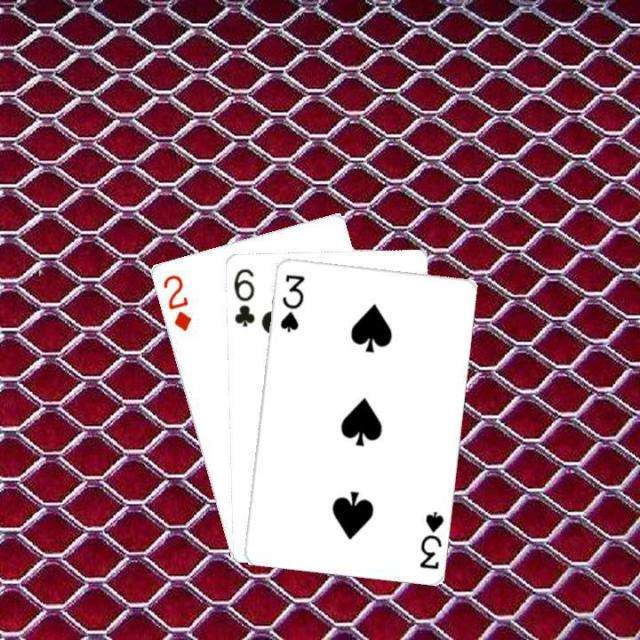2D: (158, 270, 193, 332)
3S: (276, 270, 306, 334), (415, 506, 445, 570)
6C: (228, 264, 256, 328)
